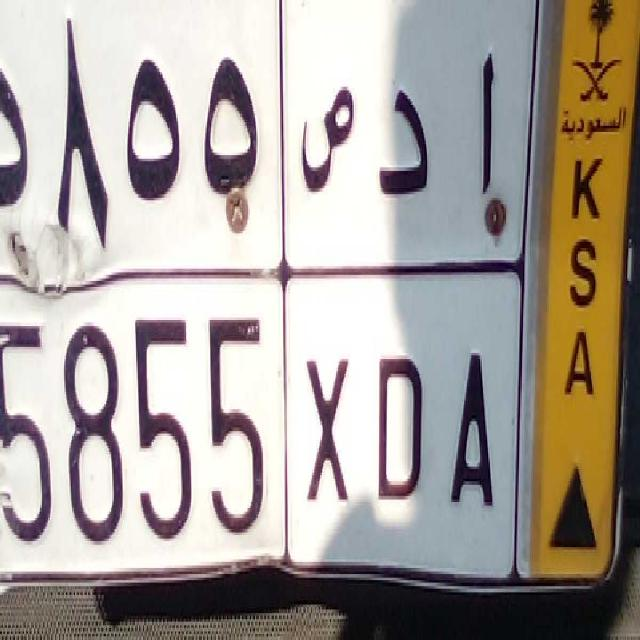license_plate: (0, 267, 511, 594)
